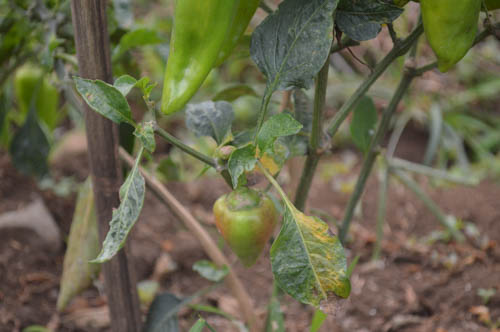ChiliPepper: (166, 3, 240, 128), (213, 195, 274, 270)
